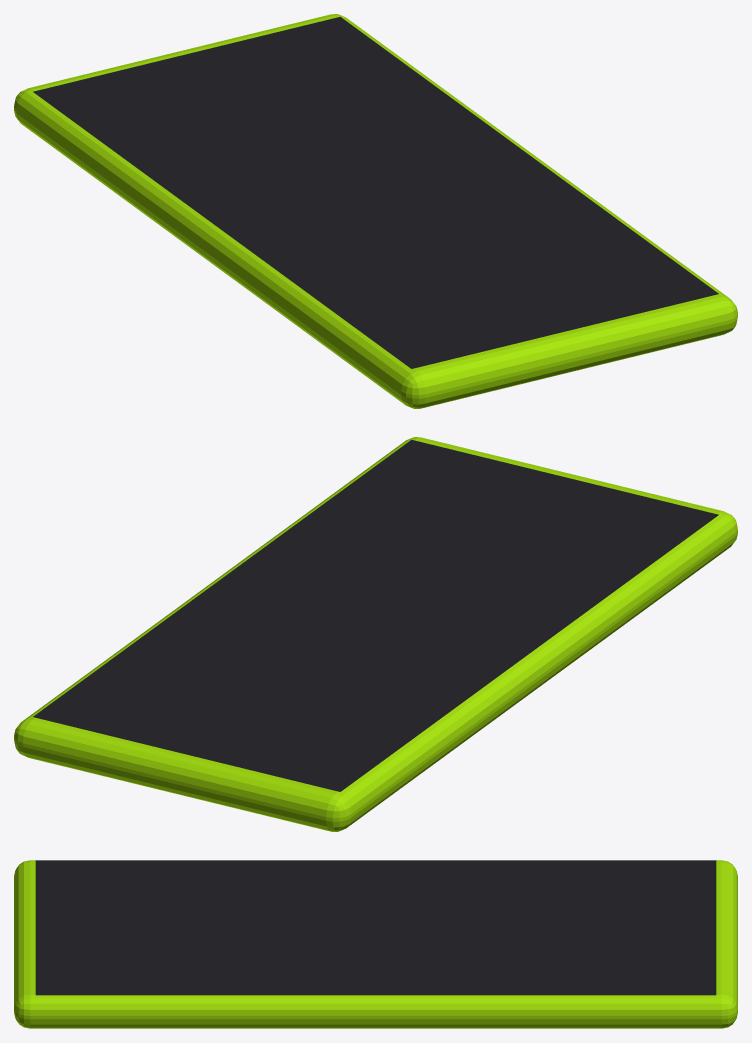
Rendered from vivo-y-model-39-flagship-2021.glb.
The picture shows the model from 3 angles, top to bottom: view 1: azimuth 30°, elevation 25°; view 2: azimuth 150°, elevation 25°; view 3: azimuth 270°, elevation 25°; orthographic projection. The views are drawn at different scales.
Parts seen in each view (by area): view 1: Phone_Screen, Phone_Body; view 2: Phone_Screen, Phone_Body; view 3: Phone_Screen, Phone_Body.
Part boxes in pixels (x1=…): Phone_Screen: x1=33, y1=16, x2=718, y2=368; Phone_Body: x1=14, y1=14, x2=737, y2=408; Phone_Screen: x1=33, y1=439, x2=718, y2=791; Phone_Body: x1=14, y1=437, x2=737, y2=831; Phone_Screen: x1=35, y1=860, x2=716, y2=995; Phone_Body: x1=14, y1=860, x2=737, y2=1028.
Bounding box in the file's own units: 0.0781 × 0.0082 × 0.163.
